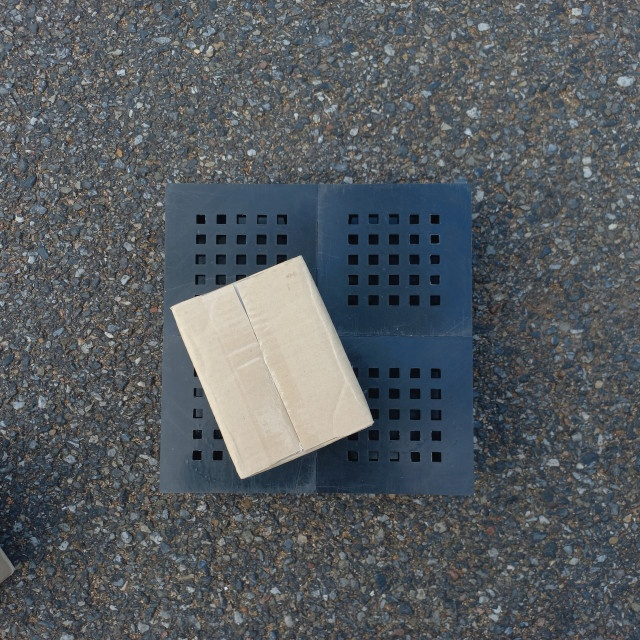box: (166, 251, 376, 484)
pallet: (150, 177, 479, 506)
